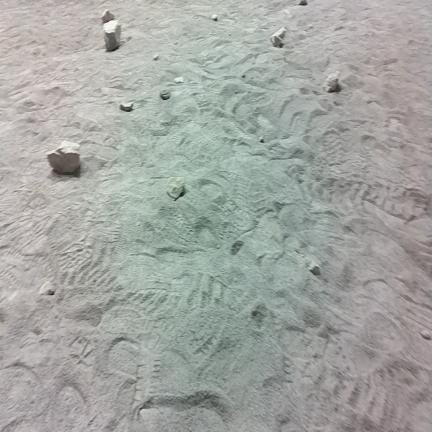Rock: (48, 141, 79, 172), (104, 21, 120, 51), (168, 178, 185, 200), (323, 71, 340, 93), (271, 28, 286, 47), (39, 282, 55, 296), (308, 261, 320, 275), (102, 10, 114, 23), (120, 102, 133, 112), (160, 90, 170, 100), (421, 330, 431, 340), (174, 77, 184, 83), (212, 14, 218, 21), (299, 0, 307, 5), (153, 54, 159, 60), (259, 136, 264, 143)
